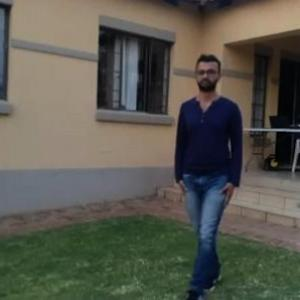follow: (173, 65, 240, 272)
